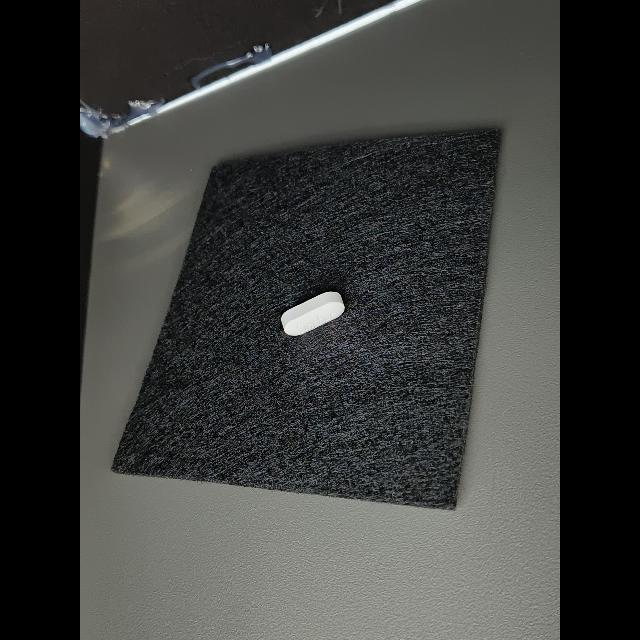Intact Pill: (281, 292, 345, 336)
